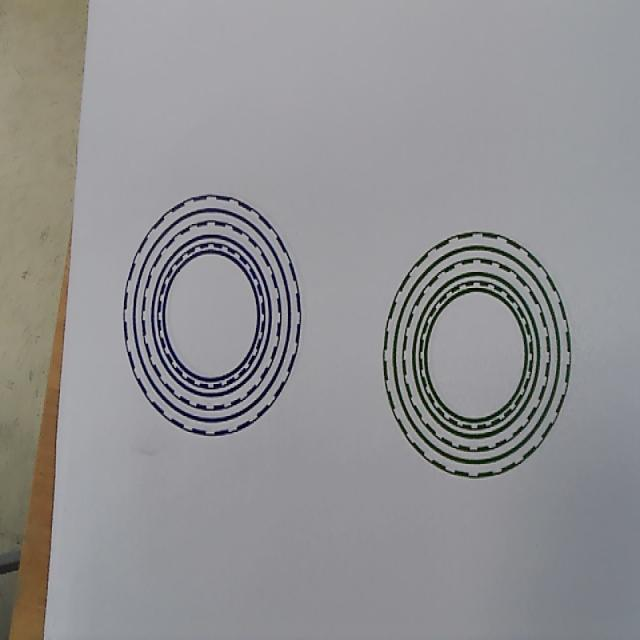b: (122, 194, 302, 437)
g: (383, 231, 571, 478)
